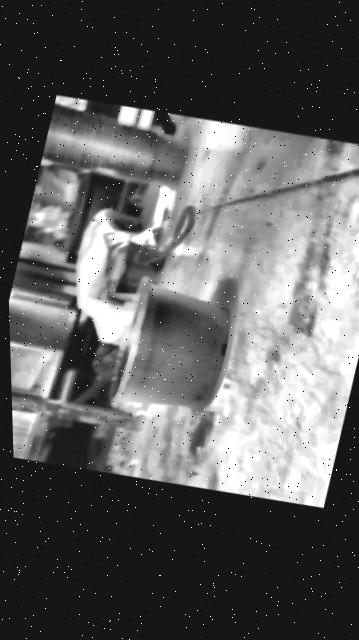pot: (107, 271, 239, 427)
